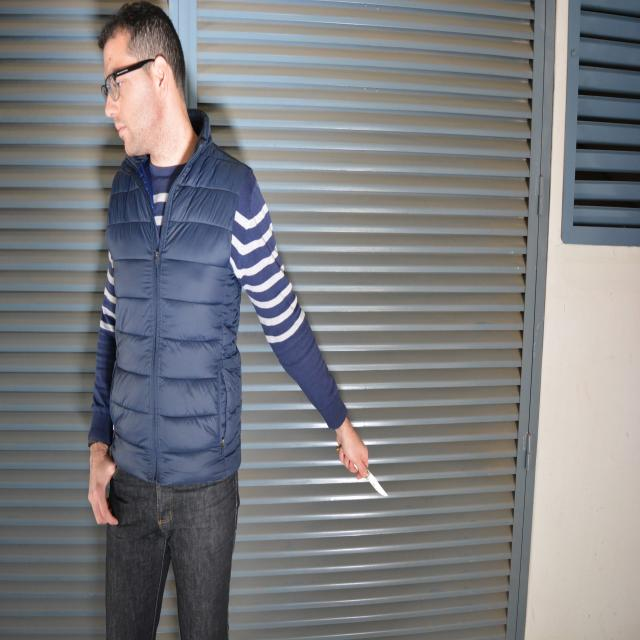knife: (366, 462, 395, 505)
